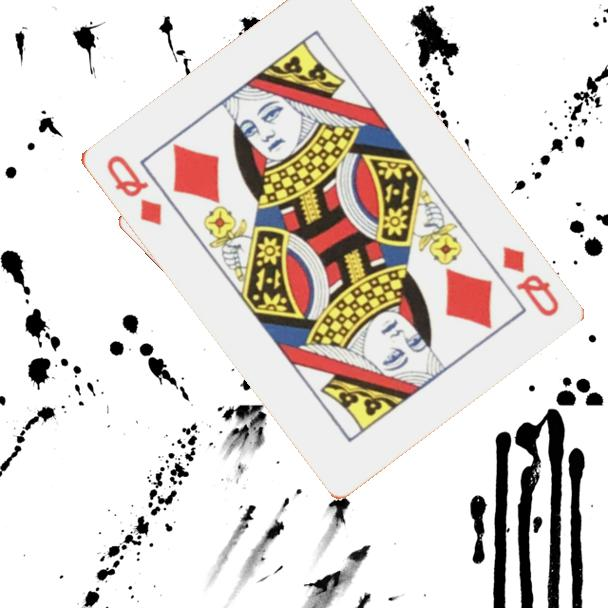d12: (498, 242, 562, 320), (102, 151, 164, 229)
